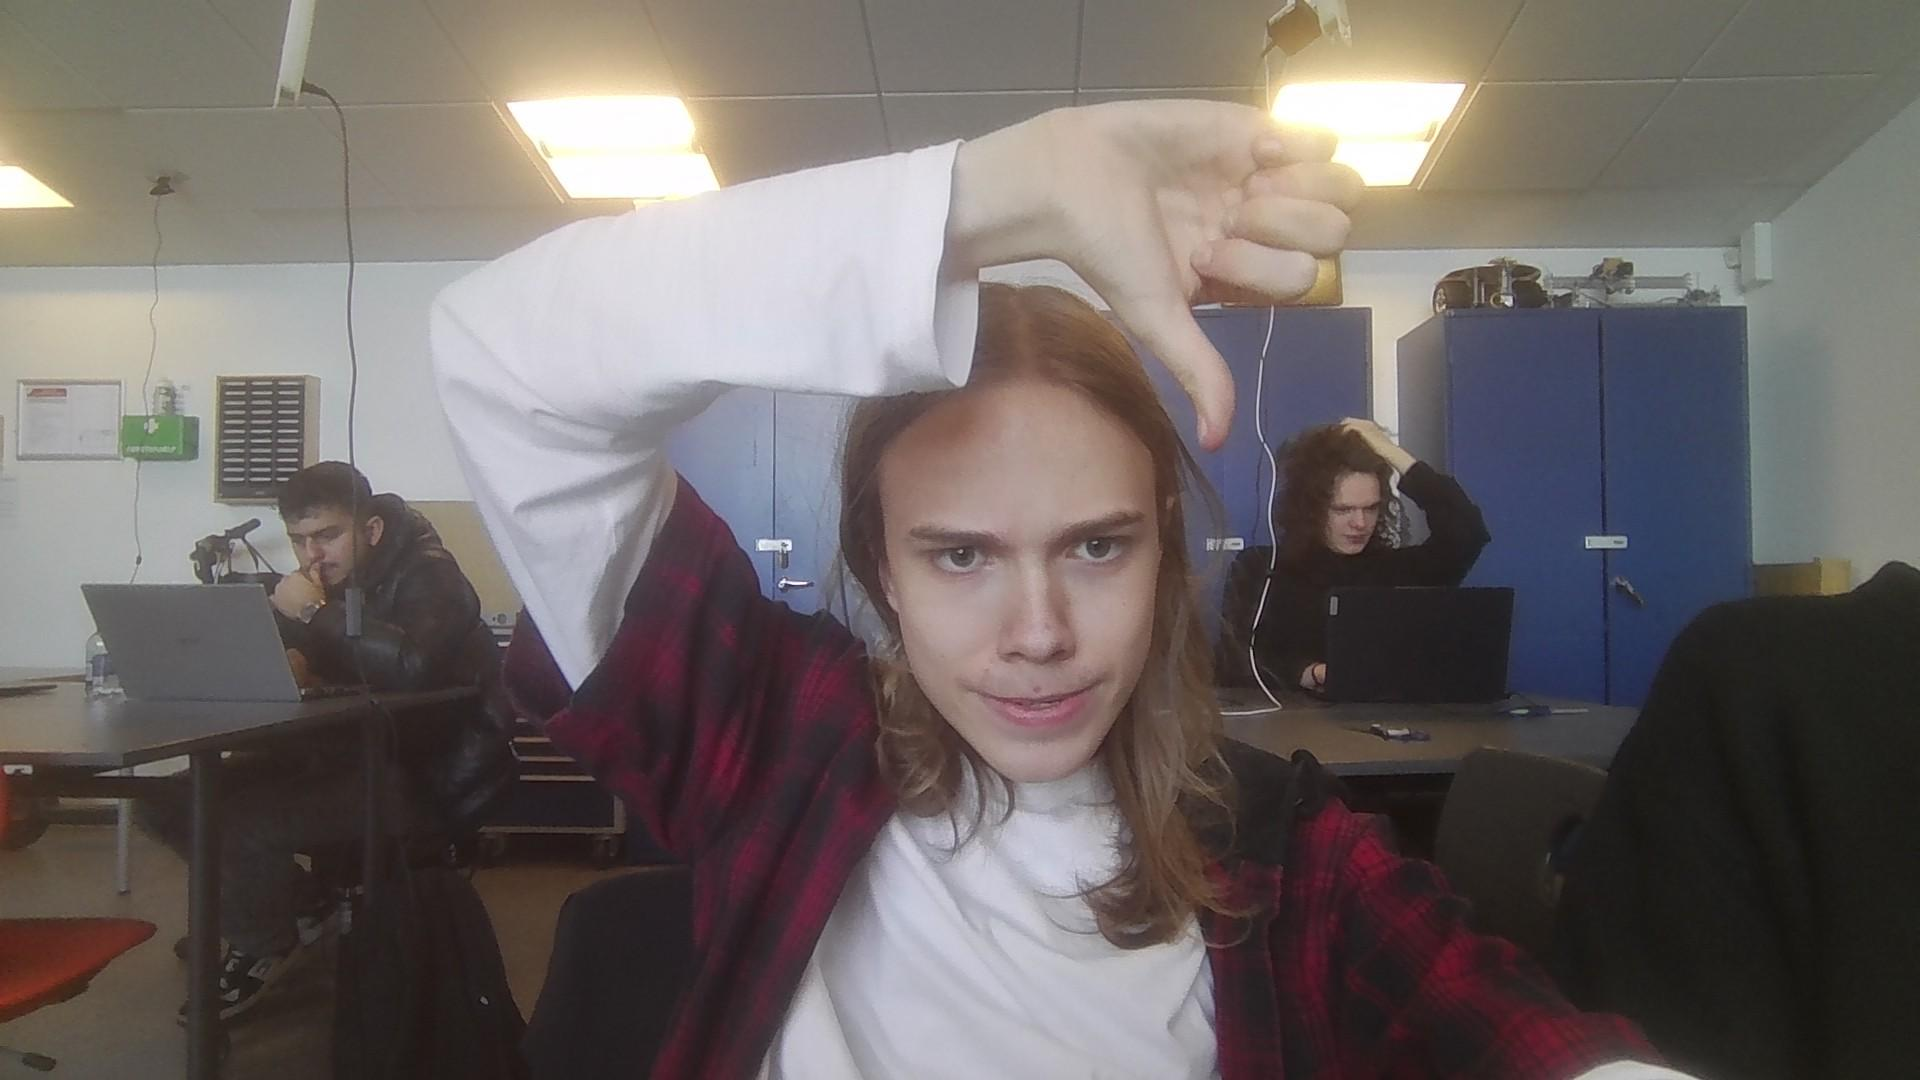thumbs down: (1077, 100, 1366, 464)
